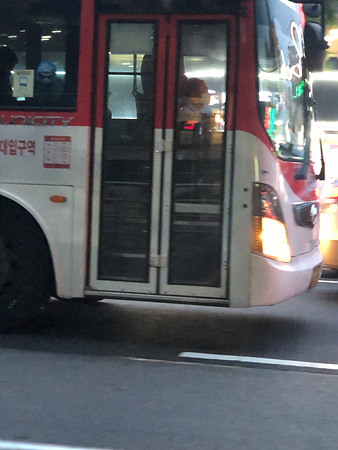entrance: (98, 18, 234, 301)
